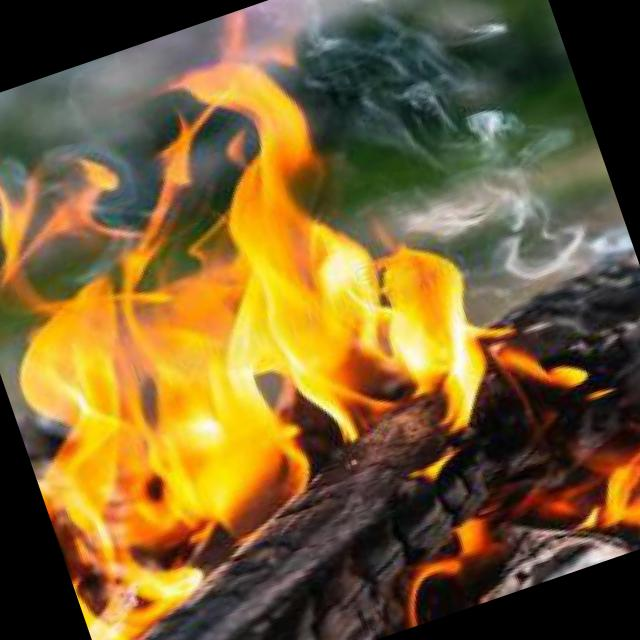fire: (0, 25, 496, 640)
smoke: (269, 0, 638, 348)
